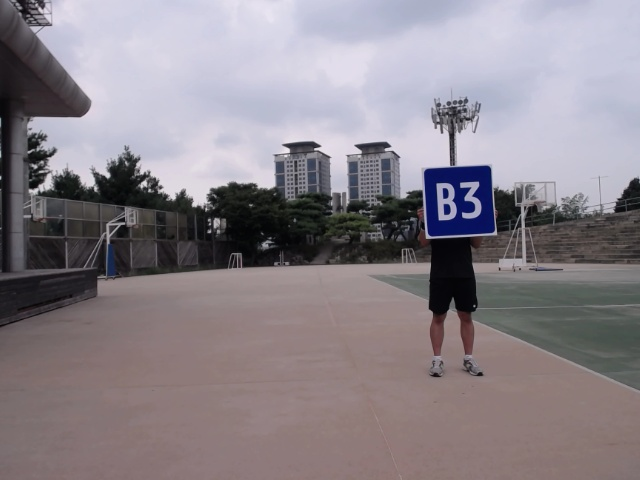delivery_b3: (421, 166, 498, 239)
